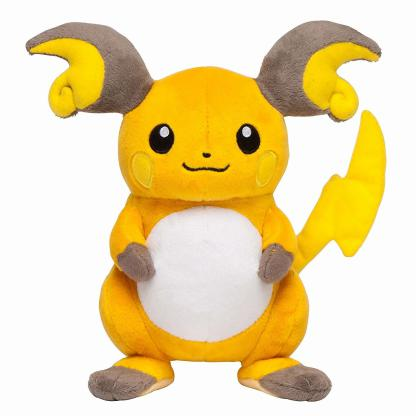Raichu: (1, 45, 416, 416)
